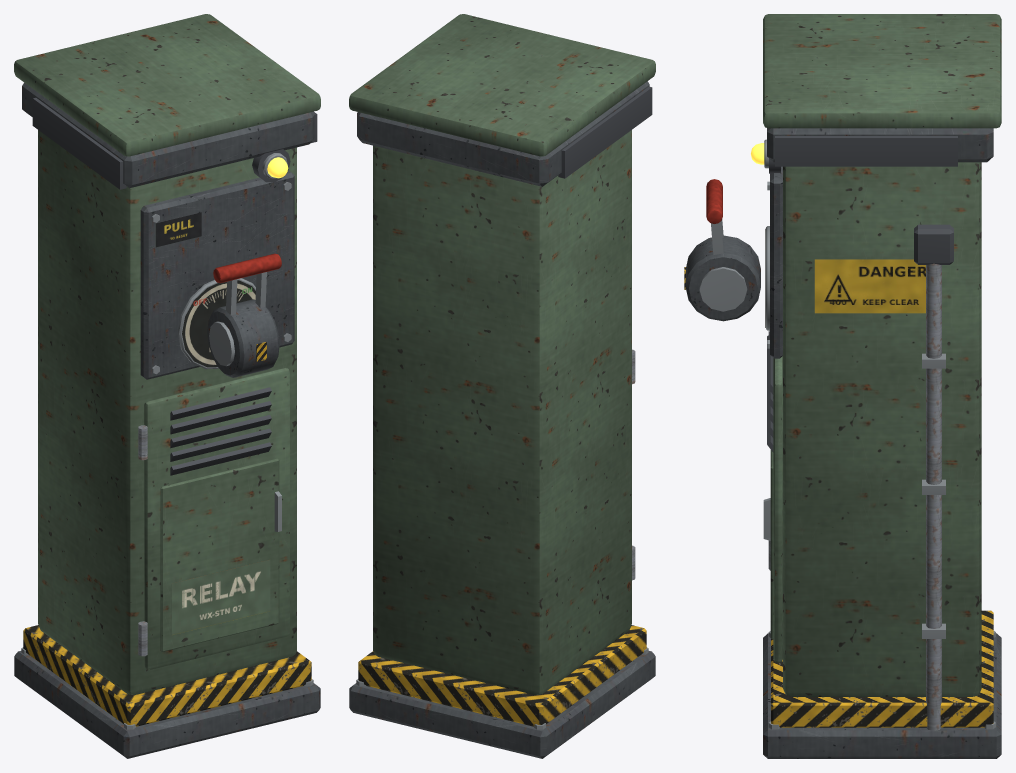
File: relay_lever_weather_station.gltf
The picture shows the model from 3 angles, left to right: view 1: azimuth 30°, elevation 25°; view 2: azimuth 150°, elevation 25°; view 3: azimuth 270°, elevation 25°; orthographic projection. The views are drawn at different scales.
Parts seen in each view (by area): view 1: Relay_Housing, Relay_Lever; view 2: Relay_Housing; view 3: Relay_Housing, Relay_Lever.
Part boxes in pixels (box(x1,y1,x2,y2)): Relay_Housing: box(14, 14, 320, 758); Relay_Lever: box(207, 253, 281, 377); Relay_Housing: box(349, 14, 655, 758); Relay_Housing: box(763, 14, 1001, 758); Relay_Lever: box(684, 179, 760, 321).
Size of the model in its own units: 0.6 by 1.8 by 0.798.
Materials: 8 (7 with a texture image).
